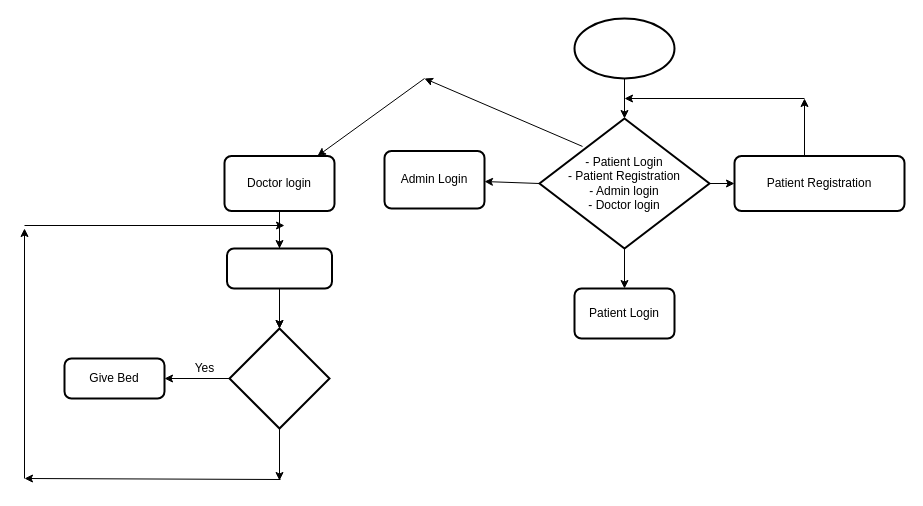
The diagram is 923 pixels wide and 506 high, and some of its shapes have lost their labels. Each missing label, with the centre of its shape:
"Admit or not" goes at (x=279, y=378).
"Appointment Approval" goes at (x=279, y=268).
"Start" goes at (x=624, y=48).
